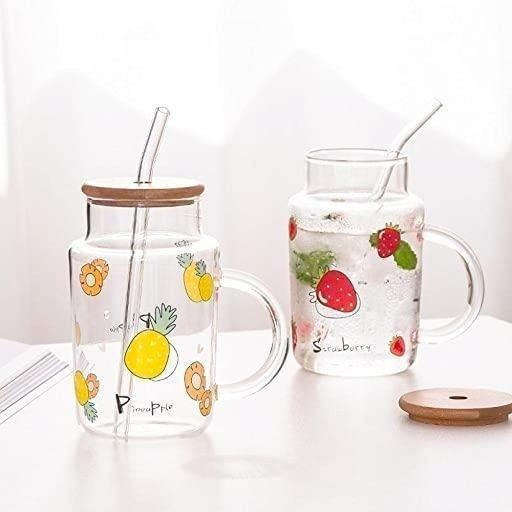glass-mug: (64, 174, 292, 447), (280, 144, 485, 383)
